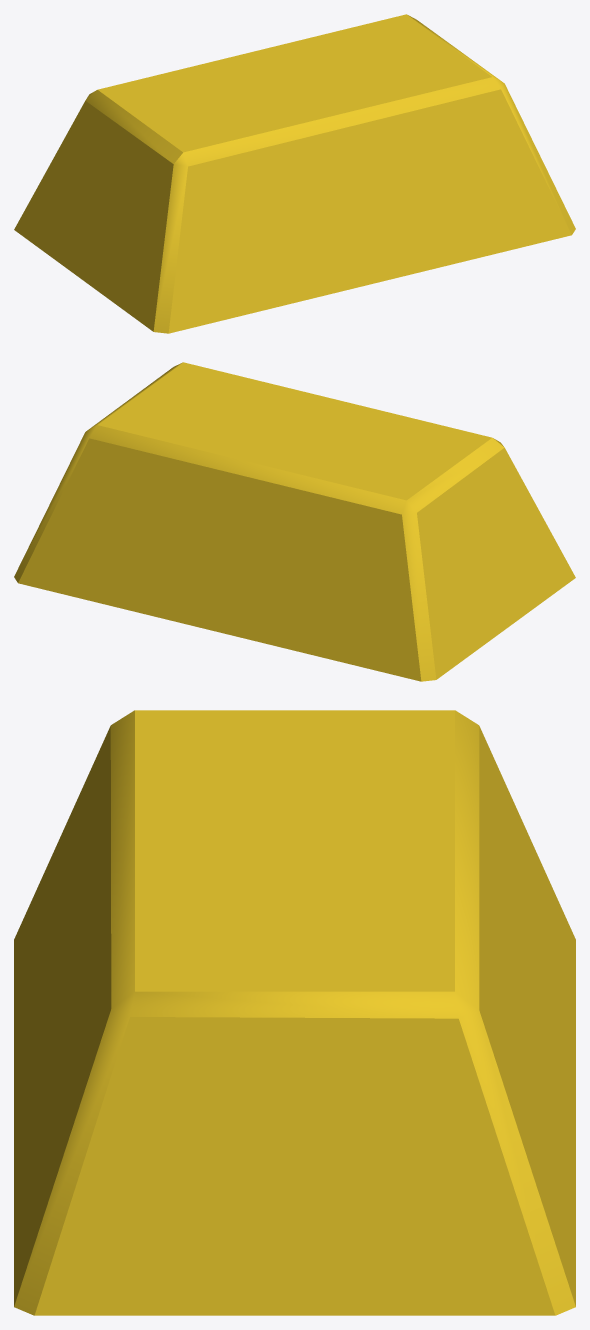
Rendered from Gold1.fbx.
3 renders of one model, top to bottom at view 1: azimuth 30°, elevation 25°; view 2: azimuth 150°, elevation 25°; view 3: azimuth 270°, elevation 25°, orthographic. The views are drawn at different scales.
Visible parts, largest first — view 1: pCube1; view 2: pCube1; view 3: pCube1.
Part boxes in pixels (left/top/right/bottom): pCube1: left=14, top=14, right=575, bottom=333; pCube1: left=14, top=362, right=575, bottom=681; pCube1: left=14, top=710, right=575, bottom=1315.
Size of the model in its own units: 35.81 by 11.83 by 22.11.
